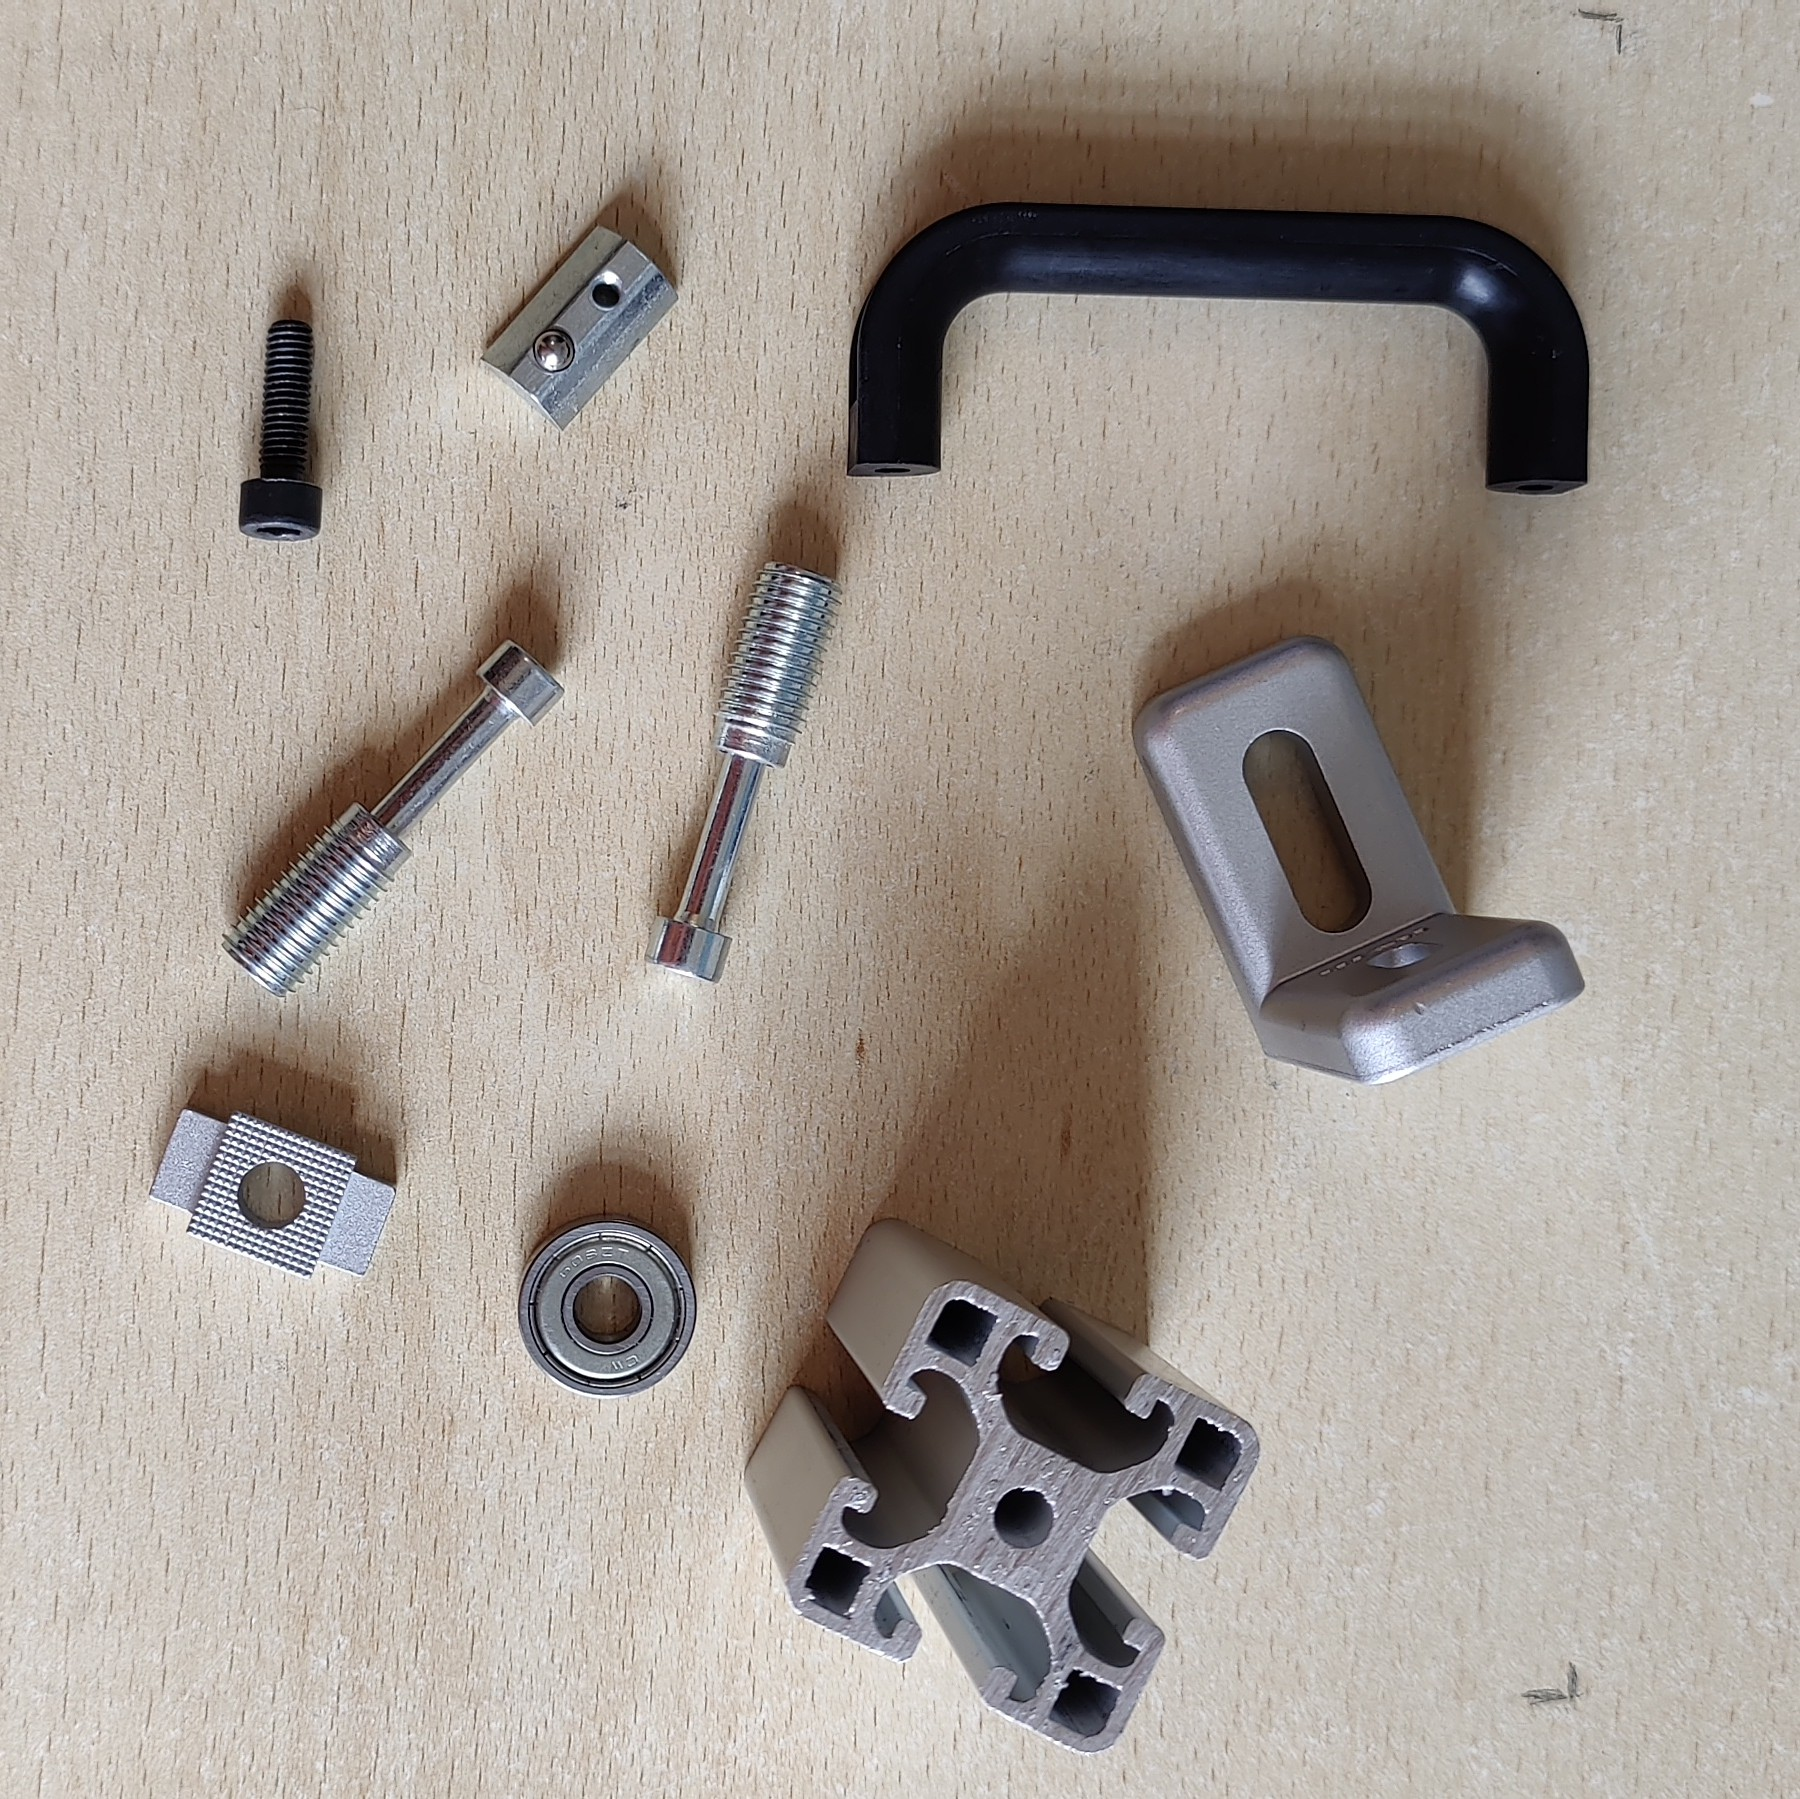Aluminium Extension: (743, 1216, 1265, 1756)
Ball Bearing: (517, 1206, 697, 1400)
Multiwinkel: (1126, 631, 1588, 1091)
Pull Handle: (843, 196, 1597, 498)
Shoulder Socket Head Cap Screw: (217, 638, 563, 998), (641, 557, 848, 984)
Socket Head Cap Screw: (235, 315, 328, 544)
T Nut Square: (148, 1105, 400, 1283)
T Spring Nut: (474, 221, 683, 433)
